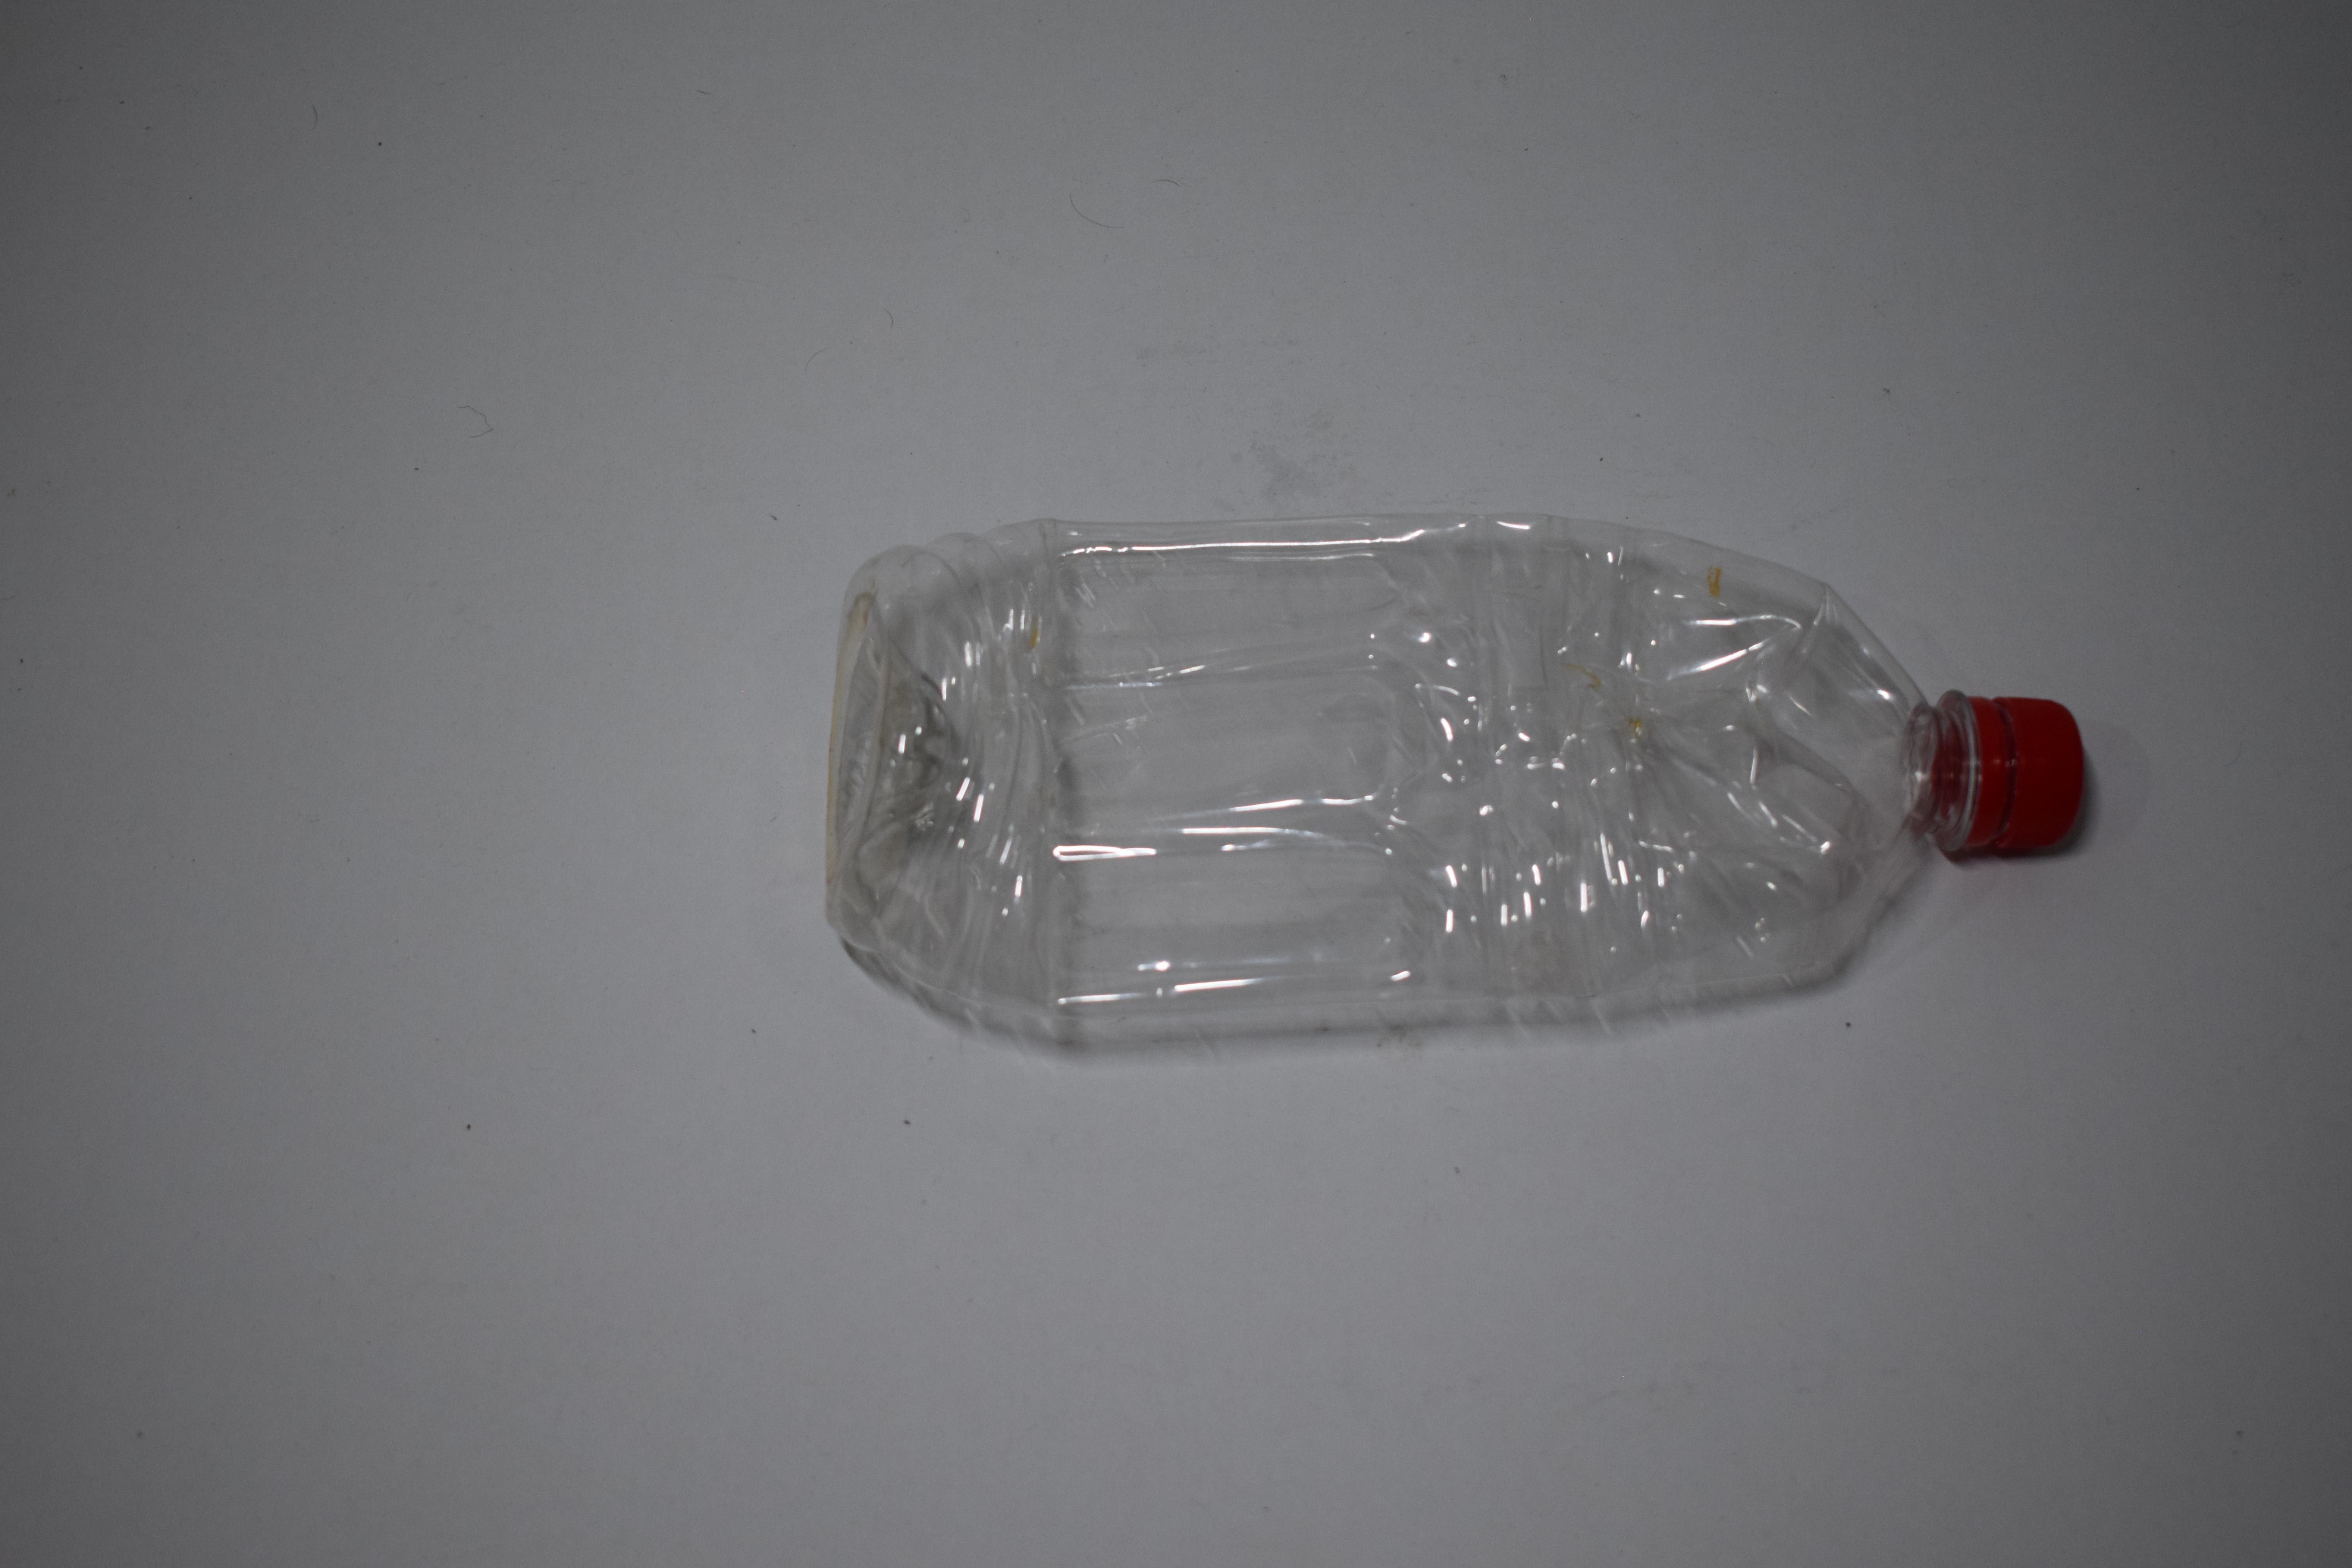bottle: (1400, 537, 1514, 1019)
